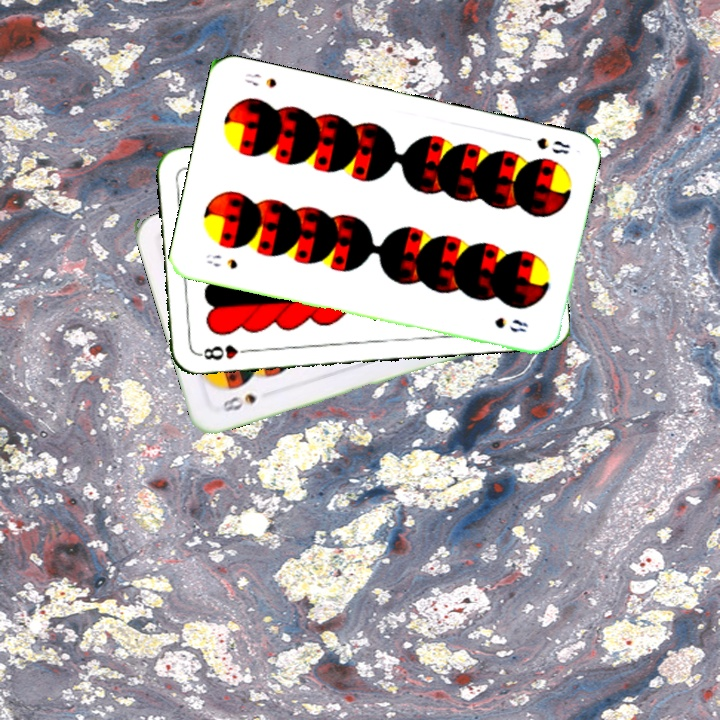H8: (195, 340, 254, 363)
S8: (218, 389, 259, 415), (532, 133, 572, 157), (202, 249, 240, 272)
